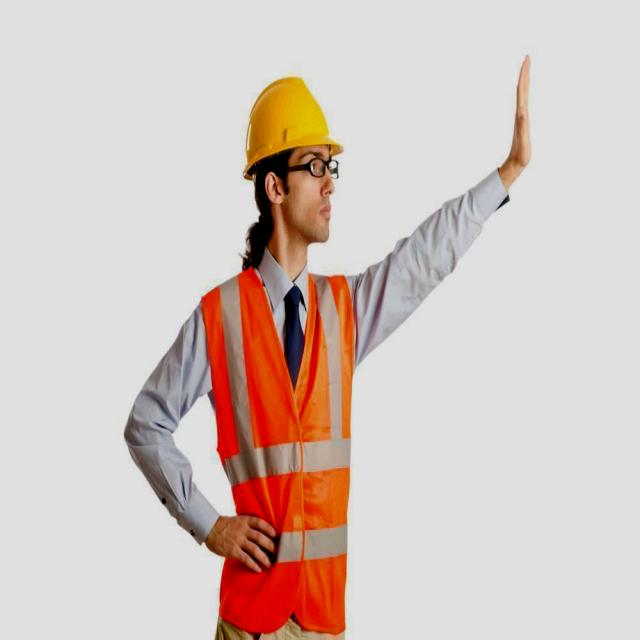face_nomask: (276, 153, 342, 249)
glasses: (302, 152, 342, 182)
hand_noglove: (491, 43, 559, 188), (200, 495, 278, 585)
head_helmet: (230, 66, 340, 182)
person: (160, 51, 407, 626)
vest: (209, 262, 349, 622)
